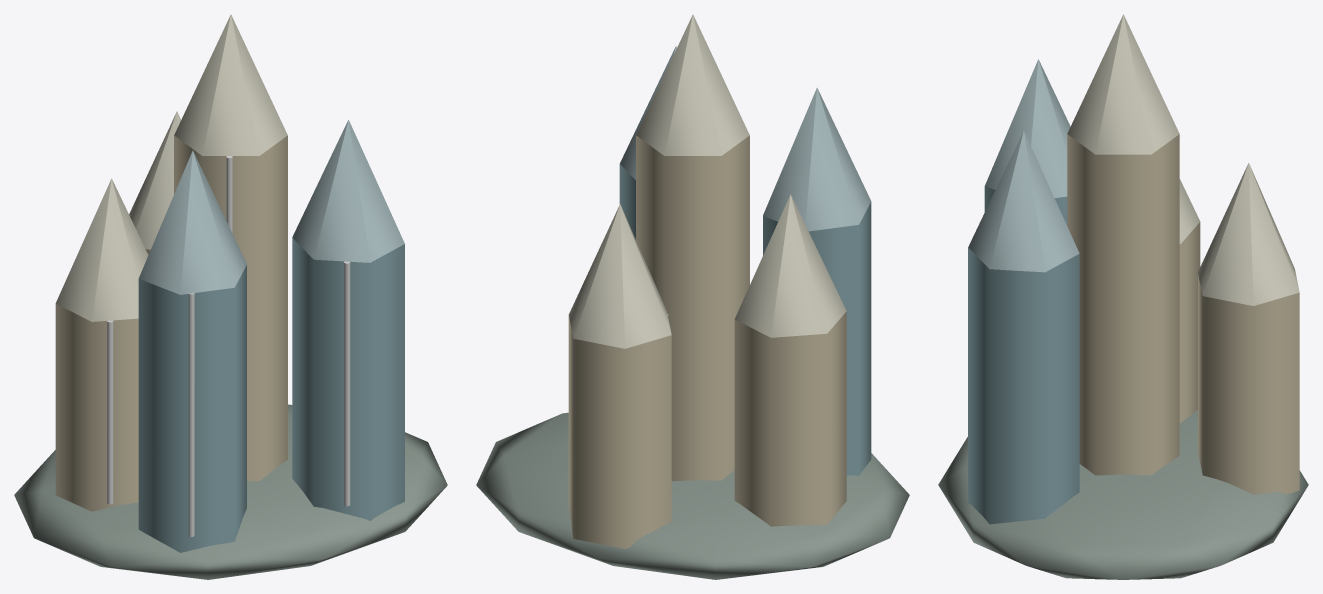
File: discovery-quartz.glb
The picture shows the model from 3 angles, left to right: view 1: azimuth 30°, elevation 25°; view 2: azimuth 150°, elevation 25°; view 3: azimuth 270°, elevation 25°; orthographic projection.
Parts seen in each view (by area): view 1: discovery-quartz-visual; view 2: discovery-quartz-visual; view 3: discovery-quartz-visual.
Part boxes in pixels (x1,y1,x2,y2): discovery-quartz-visual: (14,14,447,579); discovery-quartz-visual: (476,14,909,579); discovery-quartz-visual: (938,14,1308,579).
Bounding box in the file's own units: 0.68 × 0.84 × 0.56.
